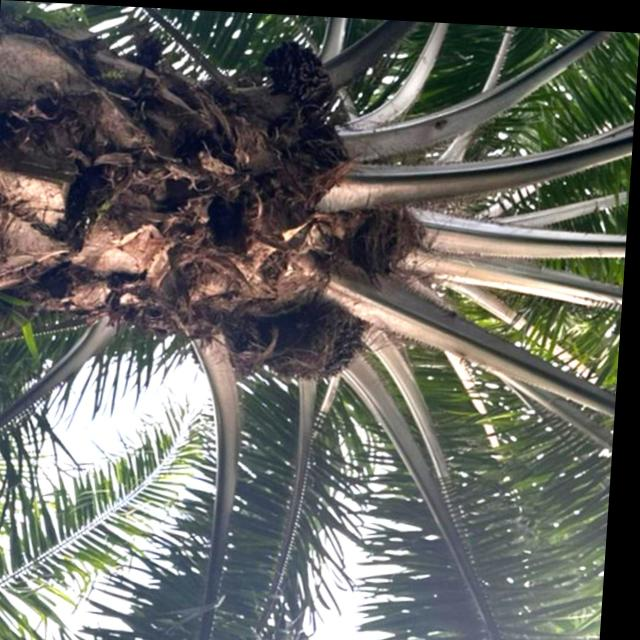unripe: (250, 293, 380, 385)
